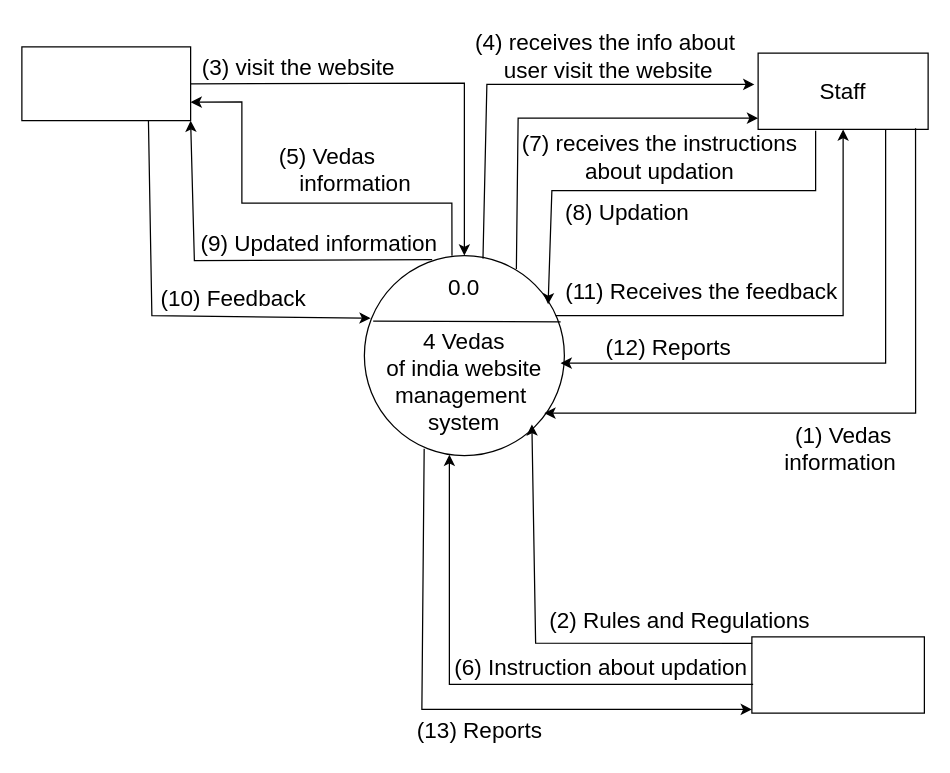
Some shapes in this 950 by 773 pixel diagram are drawn without their labels. Each missing label, with the box of its shape:
Management: (751, 636, 924, 713)
User: (21, 46, 191, 121)
